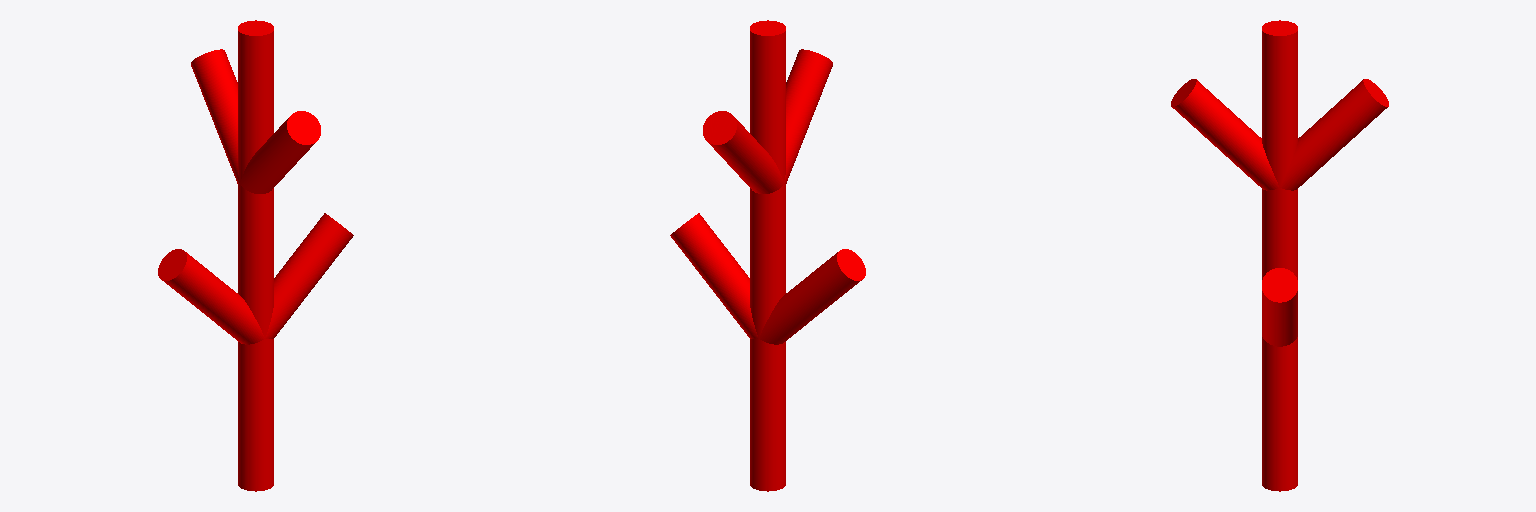
The robot description file, URDF, robot "tree.urdf":
<?xml version="1.0" ?>
<robot name="tree.urdf">
  <link name="baseLink">
    <inertial>
      <origin rpy="0 0 0" xyz="0 0 0"/>
       <mass value=".1"/>
       <inertia ixx="1" ixy="0" ixz="0" iyy="1" iyz="0" izz="1"/>
    </inertial>
    <visual>
      <origin rpy="0 0 0" xyz="0 0 0"/>
      <geometry>
        <mesh filename="14.stl" scale="1 1 1" />
      </geometry>
      <material name="red">
        <color rgba="1 0 0 1"/>
      </material>
    </visual>
    <collision>
      <origin rpy="0 0 0" xyz="0 0 0"/>
      <geometry>
        <mesh filename="14_convex.obj" scale="1 1 1" />
      </geometry>
    </collision>
  </link>
</robot>

--- Render facts (derived) ---
The picture shows the robot from 3 angles, left to right: view 1: azimuth 30°, elevation 25°; view 2: azimuth 150°, elevation 25°; view 3: azimuth 270°, elevation 25°; orthographic projection.
Robot: tree.urdf — 1 links, 0 joints (none); root link baseLink; default pose: every joint at zero.
Links seen in each view (by area): view 1: baseLink; view 2: baseLink; view 3: baseLink.
Boxes of the visible links, <box> form: baseLink: <box>158,20,353,491</box>; baseLink: <box>670,20,865,491</box>; baseLink: <box>1171,20,1388,491</box>.
Size in the robot's own frame: 0.212 by 0.212 by 0.4866 metres.
Meshes: 1 distinct files referenced, 1 mesh visuals loaded (1 binary STL).